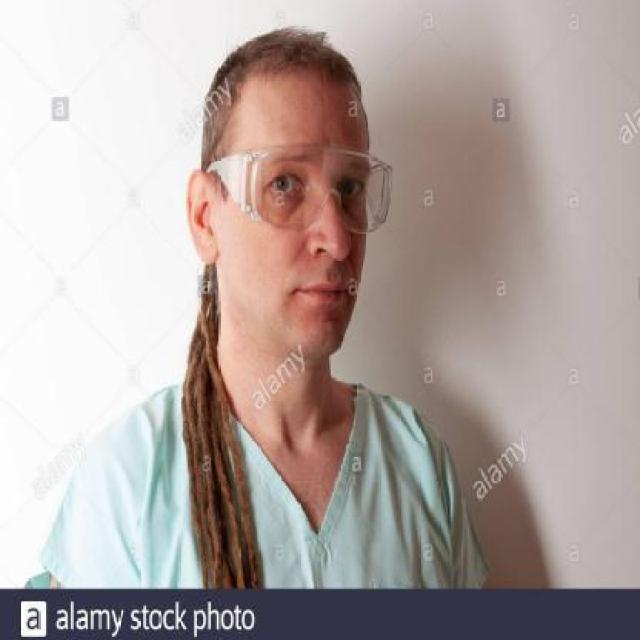face_nomask: (239, 146, 373, 334)
glasses: (204, 142, 393, 238)
head_nohelmet: (208, 26, 368, 114)
person: (56, 38, 489, 587)
